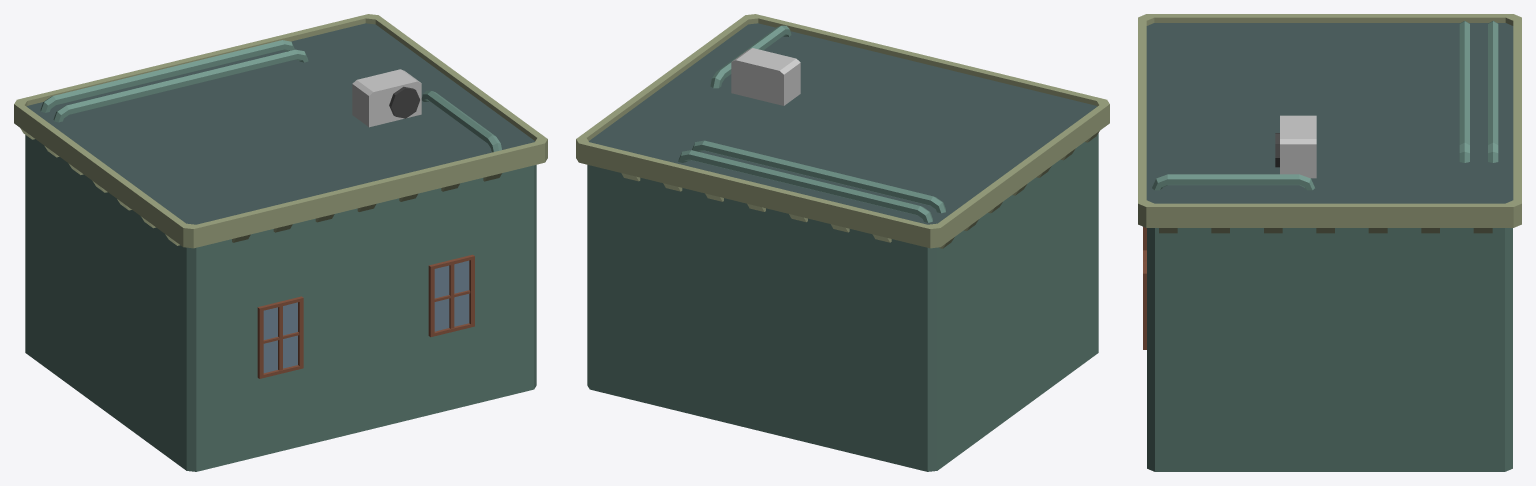
File: Building1MiddleTop.fbx
3 renders of one model, left to right at view 1: azimuth 30°, elevation 25°; view 2: azimuth 150°, elevation 25°; view 3: azimuth 270°, elevation 25°, orthographic. The views are drawn at different scales.
Parts seen in each view (by area): view 1: Building1Top; view 2: Building1Top; view 3: Building1Top.
Boxes of the visible parts, box(x1,y1,x2,y2) form: Building1Top: box(14, 14, 547, 471); Building1Top: box(576, 14, 1109, 471); Building1Top: box(1138, 14, 1521, 471).
Bounding box in the file's own units: 250 × 181 × 210.
